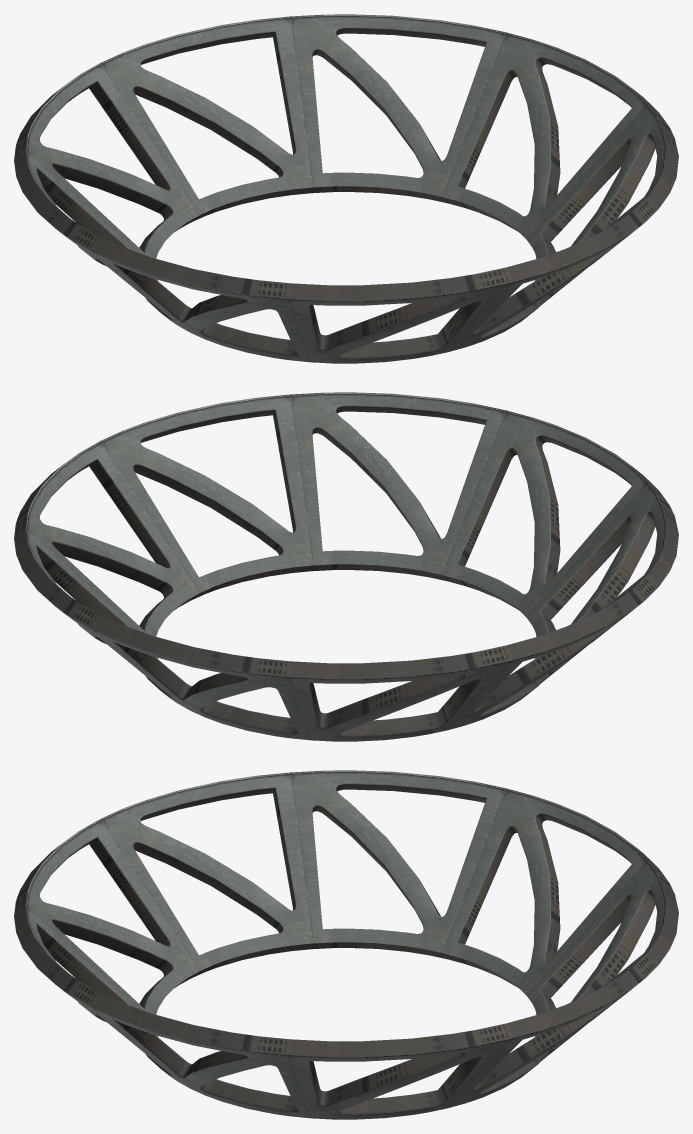
The model's file is Ring_big.FBX.
The picture shows the model from 3 angles, top to bottom: view 1: azimuth 30°, elevation 25°; view 2: azimuth 150°, elevation 25°; view 3: azimuth 270°, elevation 25°; orthographic projection.
Parts seen in each view (by area): view 1: Ring_big; view 2: Ring_big; view 3: Ring_big.
Part boxes in pixels (x1=…): Ring_big: x1=14, y1=14, x2=678, y2=363; Ring_big: x1=14, y1=392, x2=678, y2=741; Ring_big: x1=14, y1=770, x2=678, y2=1119.
Size of the model in its own units: 14.53 by 14.54 by 3.09.
